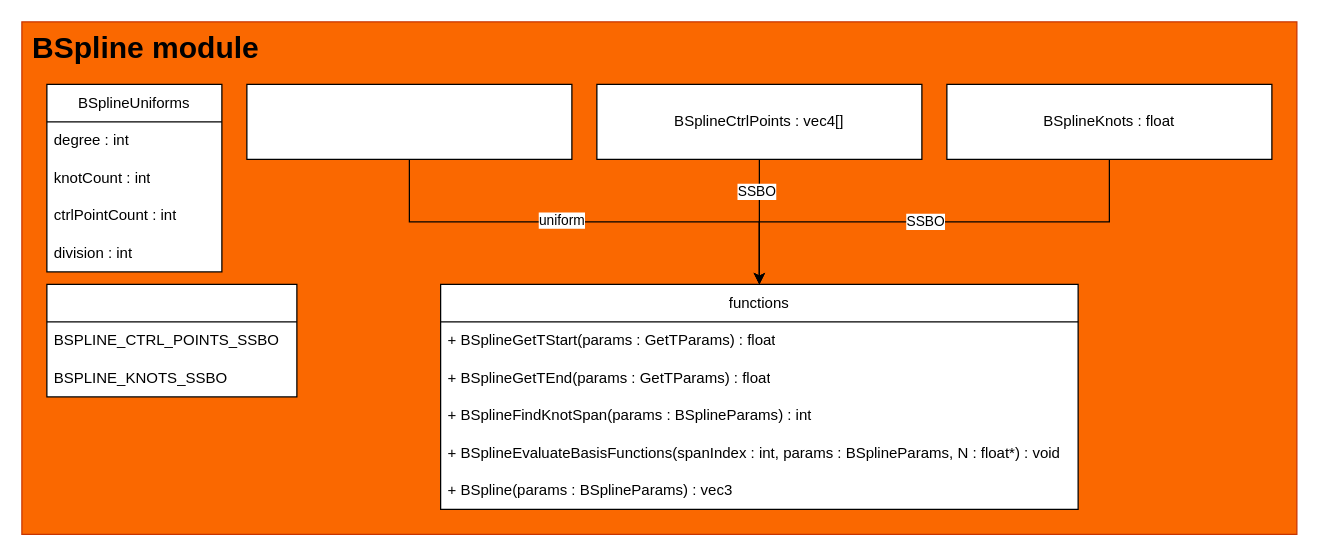
This 1319x556 diagram has some shape labels left out. The shapes that lost their labels are listed below. From the top down, each one's box as (x1, y1, x2, y2) in pixels, then its label:
(246, 83, 572, 159): bSplineData : BSplineUniforms
(46, 283, 297, 397): preprocessor macros
